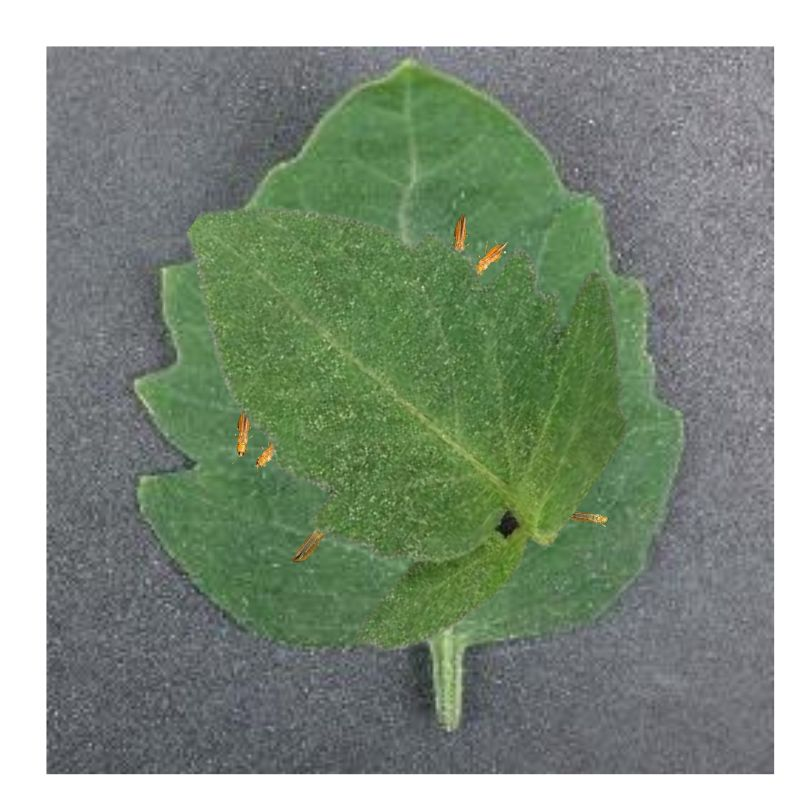thrips: (289, 527, 329, 564), (474, 239, 514, 275), (450, 212, 473, 252), (569, 508, 611, 529), (234, 411, 250, 457), (254, 439, 276, 470)
